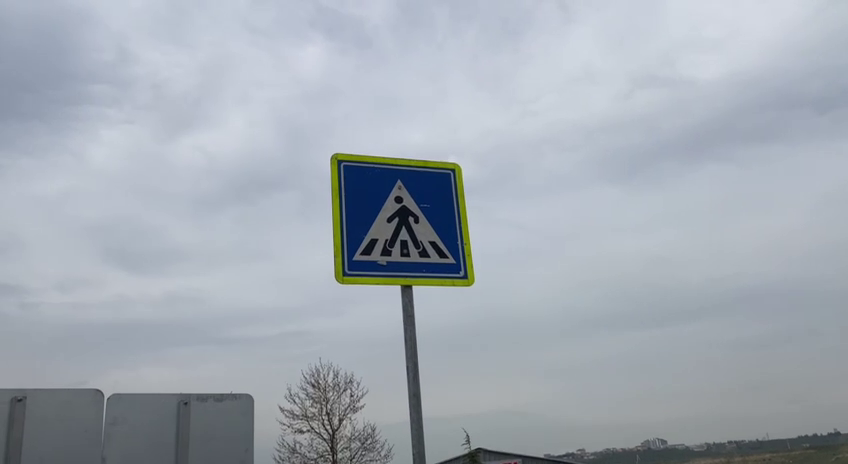pedestrianCrossing: (328, 151, 477, 288)
